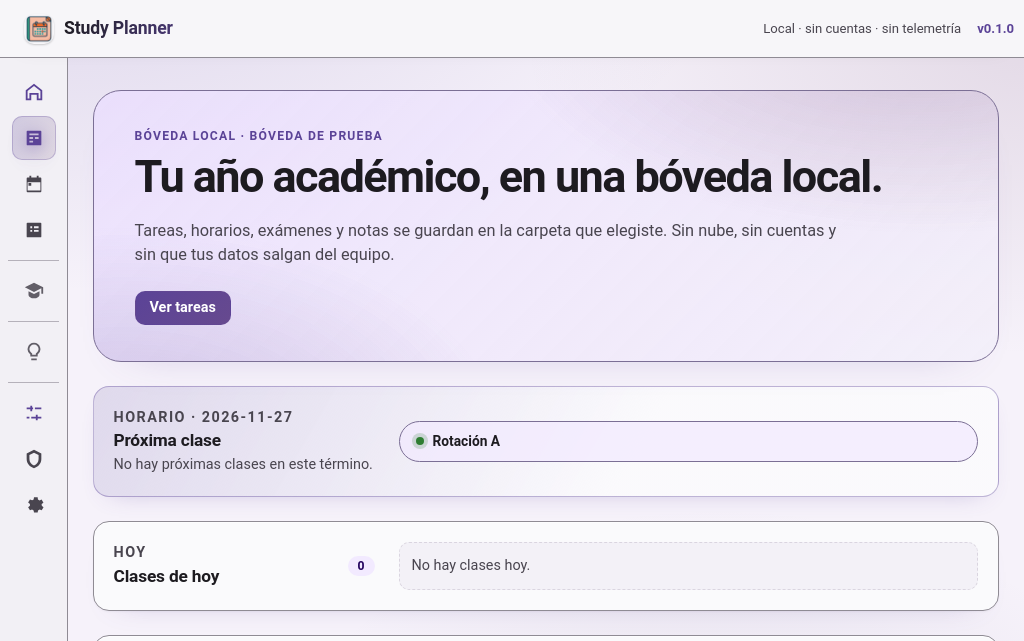
Scenario: App con IPC de Tauri › crea un backup desde la vista Bóveda
Click the button named "Bóveda".
click(34, 459)  # box [12,437,56,481]
(page scrolled)
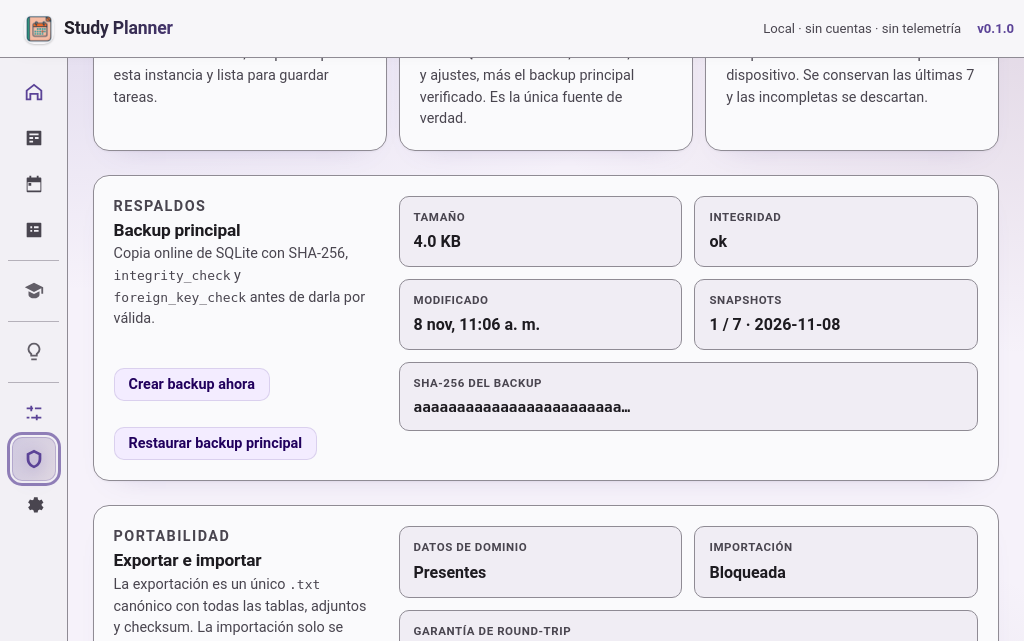
Expected: the heading "Backup principal" is shown, [114,220,240,240]
Expected: the text "1 / 7 · 2026-11-08" is shown, [710,316,840,334]
Click the button "Crear backup ahora".
click(192, 385)  # box [114,368,270,401]
(page scrolled)
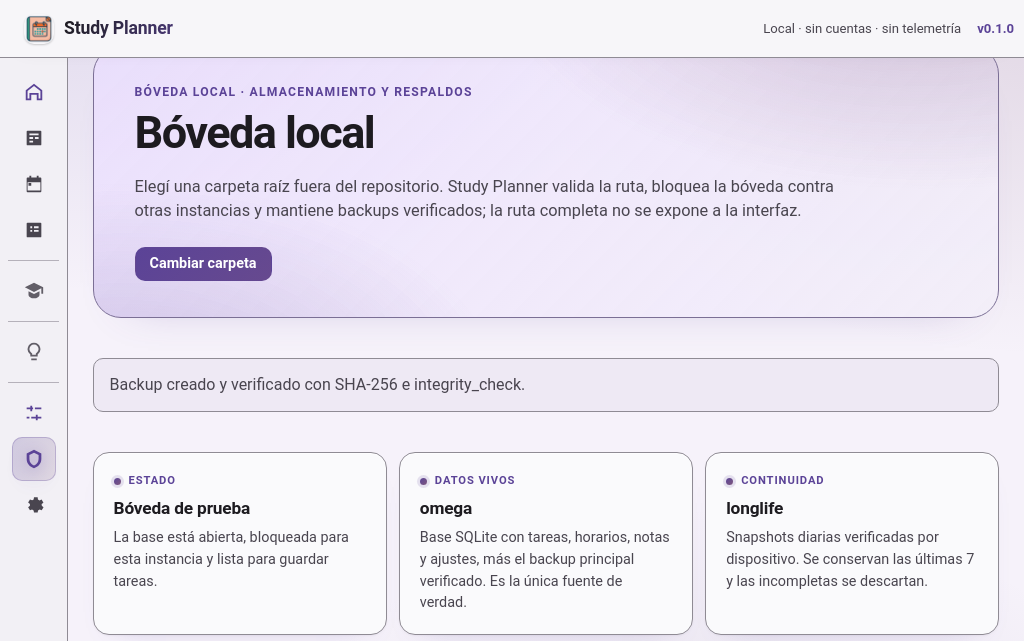
Expected: the text "Backup creado y verificado con SHA-256 e integrity_check." is shown, [93,358,1000,412]
